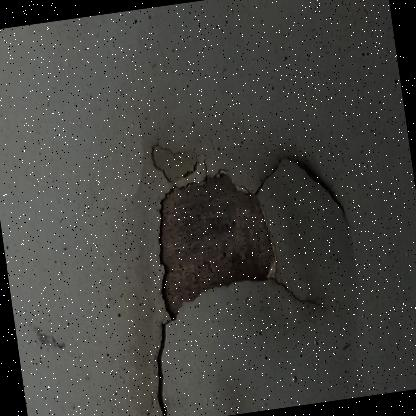Crack: (89, 78, 402, 415)
